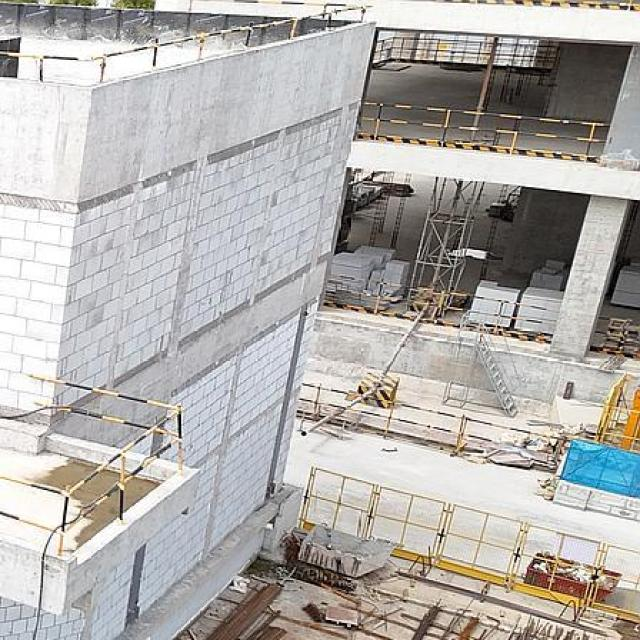edge_guardrail: (0, 373, 184, 556), (0, 0, 374, 84), (322, 272, 559, 342), (354, 100, 612, 161), (374, 36, 539, 66), (588, 314, 640, 357)
